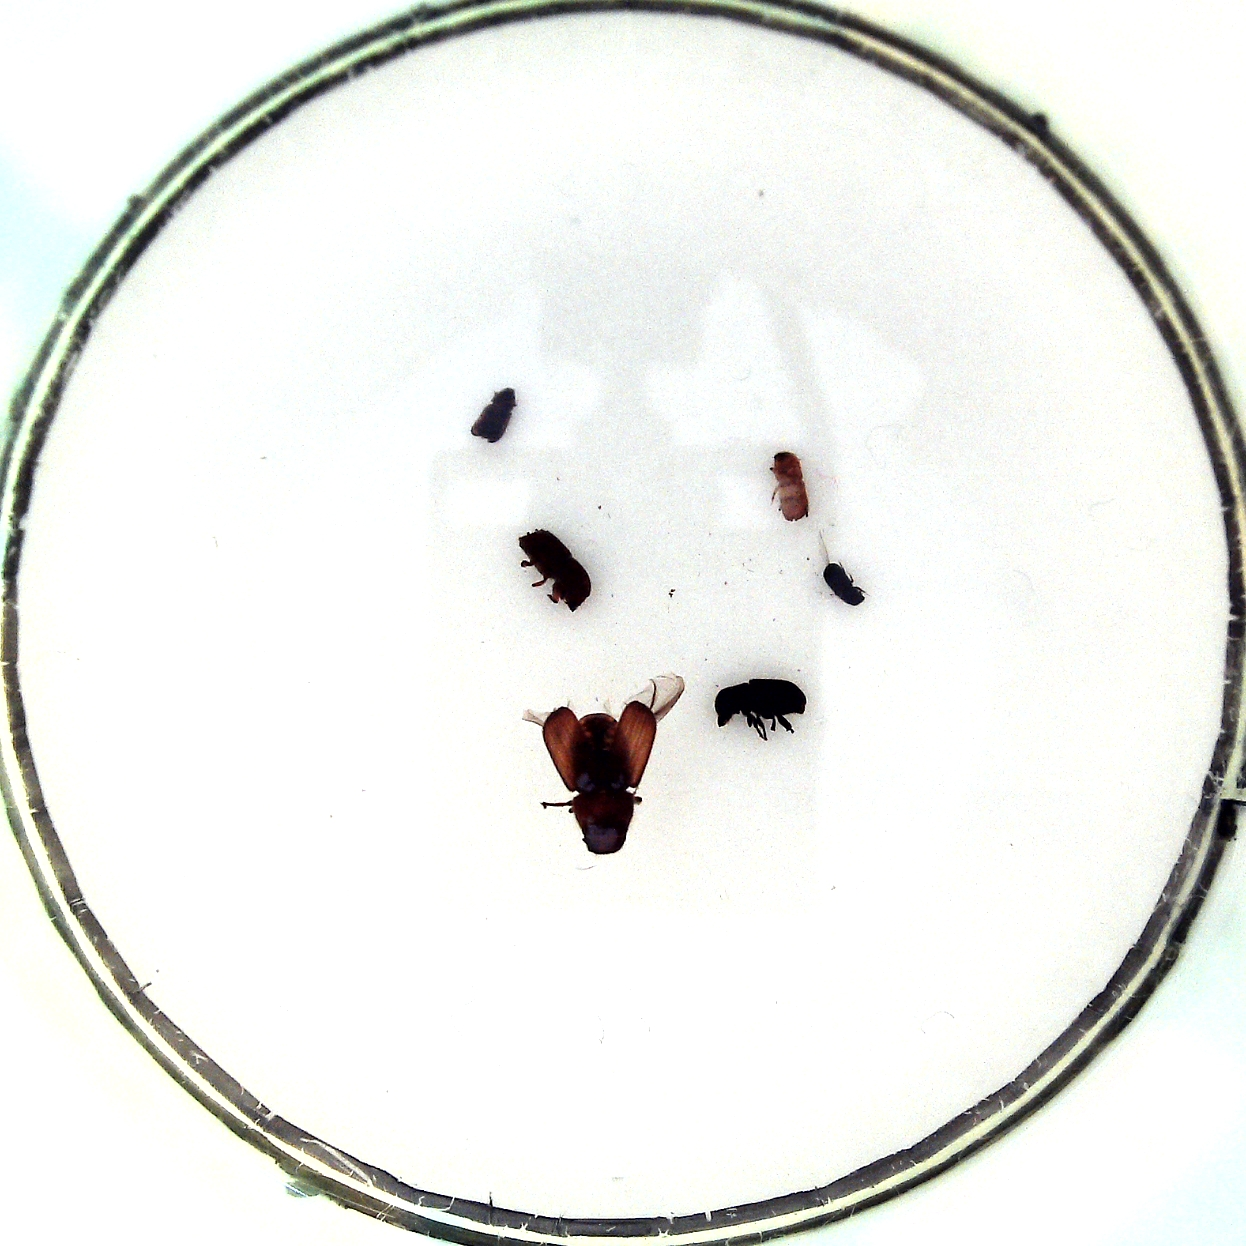Leconte: (541, 699, 658, 855)
acuminatus: (823, 563, 865, 606)
armandi: (714, 678, 806, 726)
coleoptera: (772, 451, 810, 521), (471, 388, 516, 443)
linnaeus: (519, 529, 592, 613)
